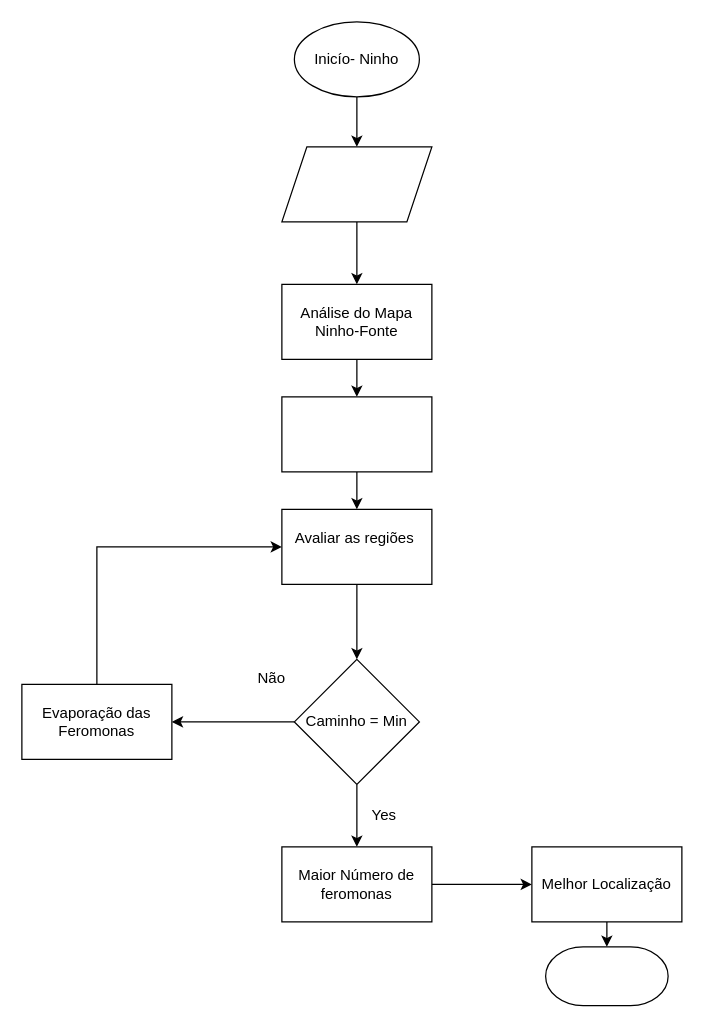
This 704x1028 diagram has some shape labels left out. The box of each missing label's shape, as (x1, y1, x2, y2) in pixels:
Fim- Fonte: (544, 946, 668, 1006)
Iniciar caminhos e concertar feromonas: (281, 396, 432, 472)
Valores iniciais da População: (281, 146, 432, 222)
